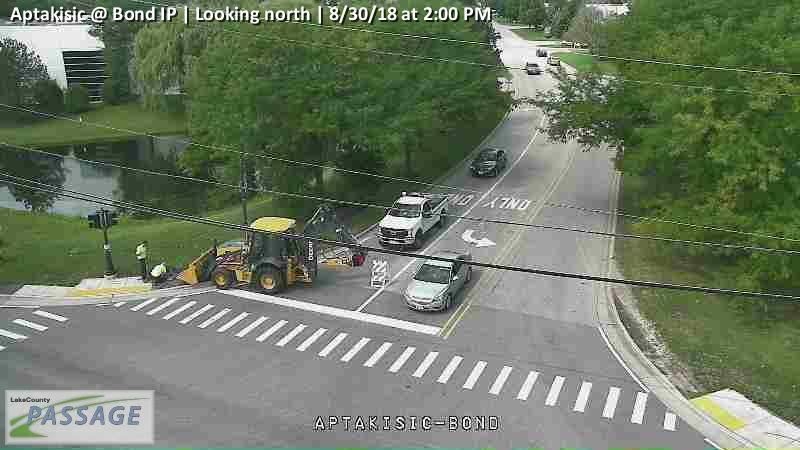Sedan: (403, 250, 472, 311), (468, 147, 506, 178), (526, 61, 541, 75), (548, 55, 560, 65), (535, 48, 546, 57)
Truck: (176, 216, 316, 293), (378, 190, 449, 251)
